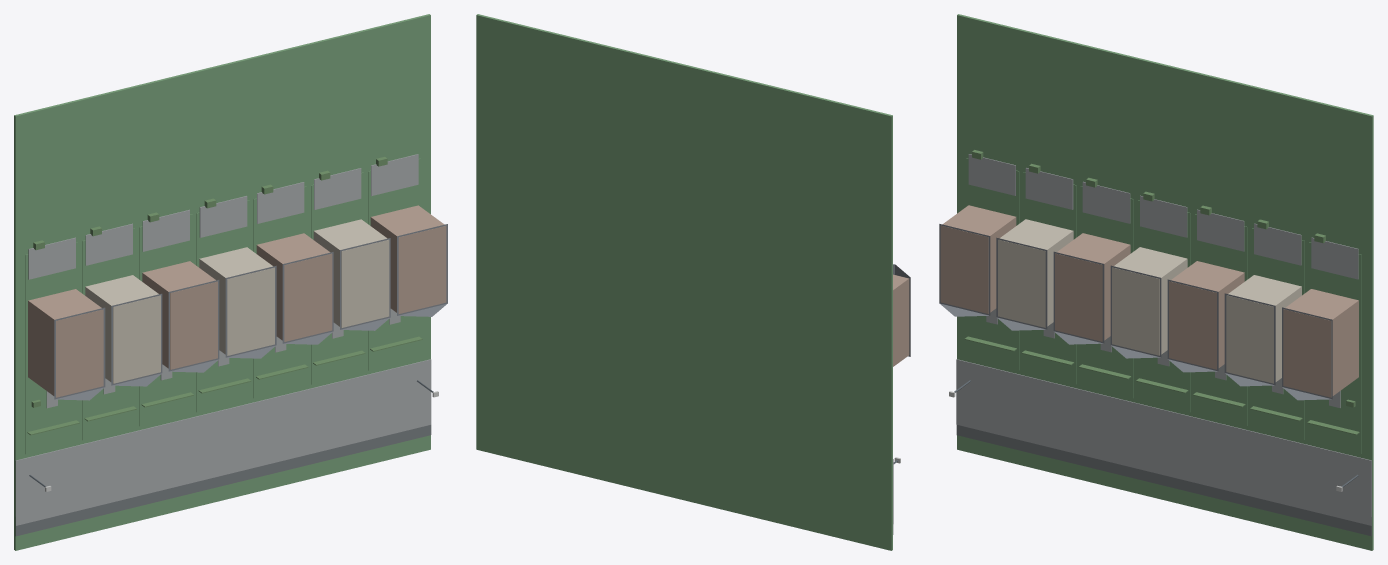
The model's file is city_block_1.glb.
3 views of the same model, side by side, from view 1: azimuth 30°, elevation 25°; view 2: azimuth 150°, elevation 25°; view 3: azimuth 330°, elevation 25° (orthographic).
Parts seen in each view (by area): view 1: grass, paving, brick, cream, roof, tarmac, hedge; view 2: grass, brick; view 3: grass, paving, brick, cream, roof, tarmac, hedge.
Boxes of the visible parts, bbox=[...] form: grass: bbox=[14, 14, 430, 550]; paving: bbox=[15, 154, 431, 525]; brick: bbox=[28, 205, 446, 397]; cream: bbox=[85, 219, 389, 383]; roof: bbox=[54, 224, 447, 400]; tarmac: bbox=[15, 425, 431, 536]; hedge: bbox=[27, 157, 422, 435]; grass: bbox=[476, 14, 892, 550]; brick: bbox=[893, 274, 909, 366]; grass: bbox=[957, 14, 1373, 550]; paving: bbox=[956, 154, 1371, 525]; brick: bbox=[940, 205, 1358, 397]; cream: bbox=[998, 219, 1301, 383]; roof: bbox=[939, 224, 1332, 400]; tarmac: bbox=[956, 425, 1371, 536]; hedge: bbox=[964, 150, 1359, 435].
Size of the model in its own units: 60 by 60 by 9.88.
